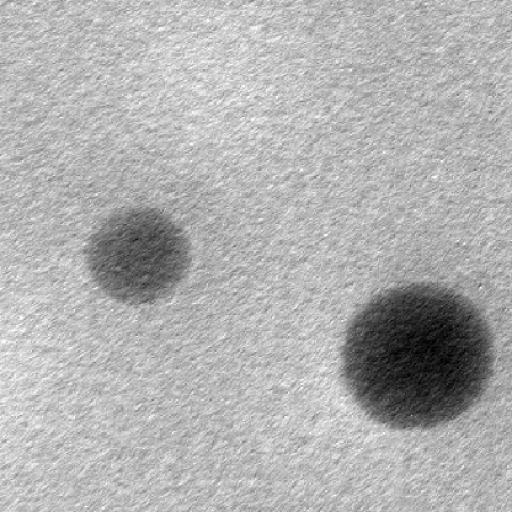Nanoparticles: (340, 278, 499, 428), (85, 206, 193, 306)
